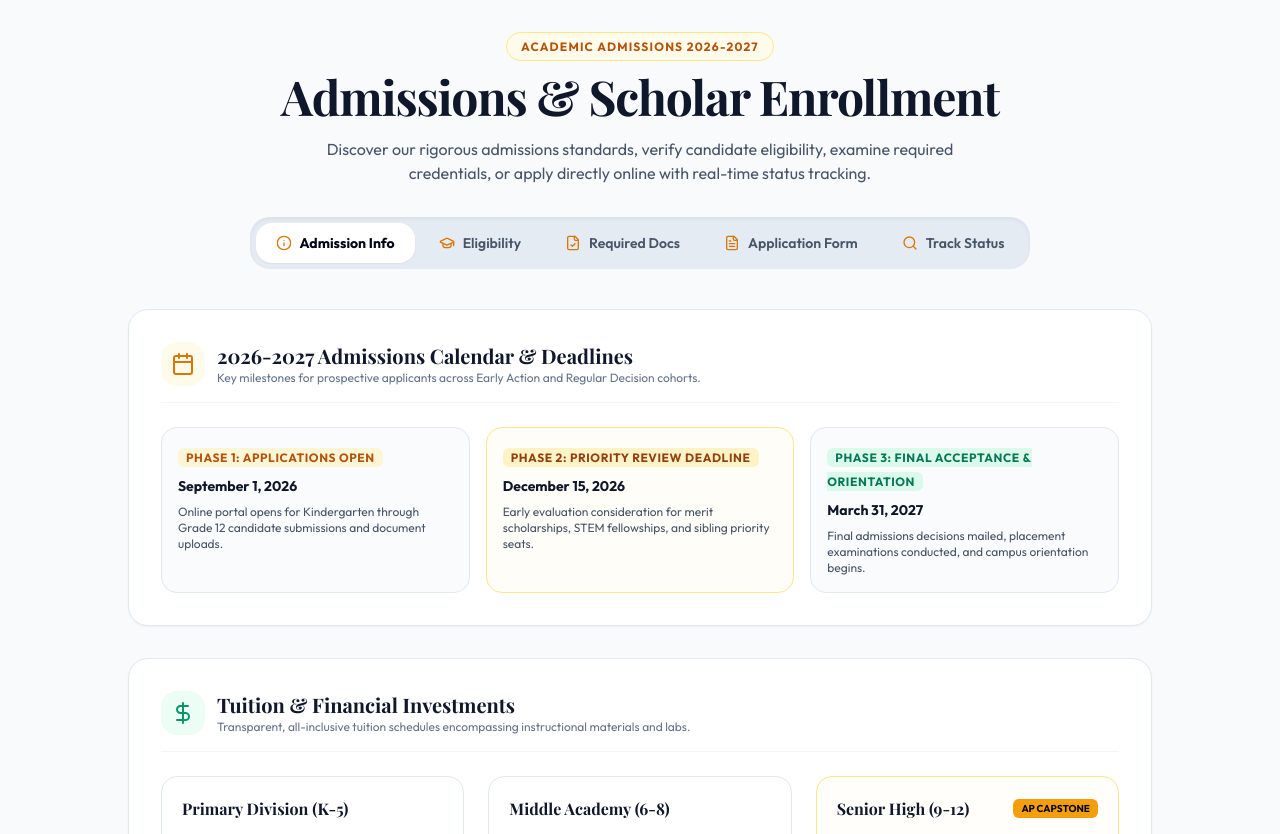
Test: Phase 14 — Complete Admissions Workflow Test Suite › 3. Public Admissions Portal — Workflow Tracking & Correction Handling › tracks application with CORRECTION_REQUESTED and allows submitting corrections
Click the button "Track Status" at (953, 243), box 882,223 -> 1024,263
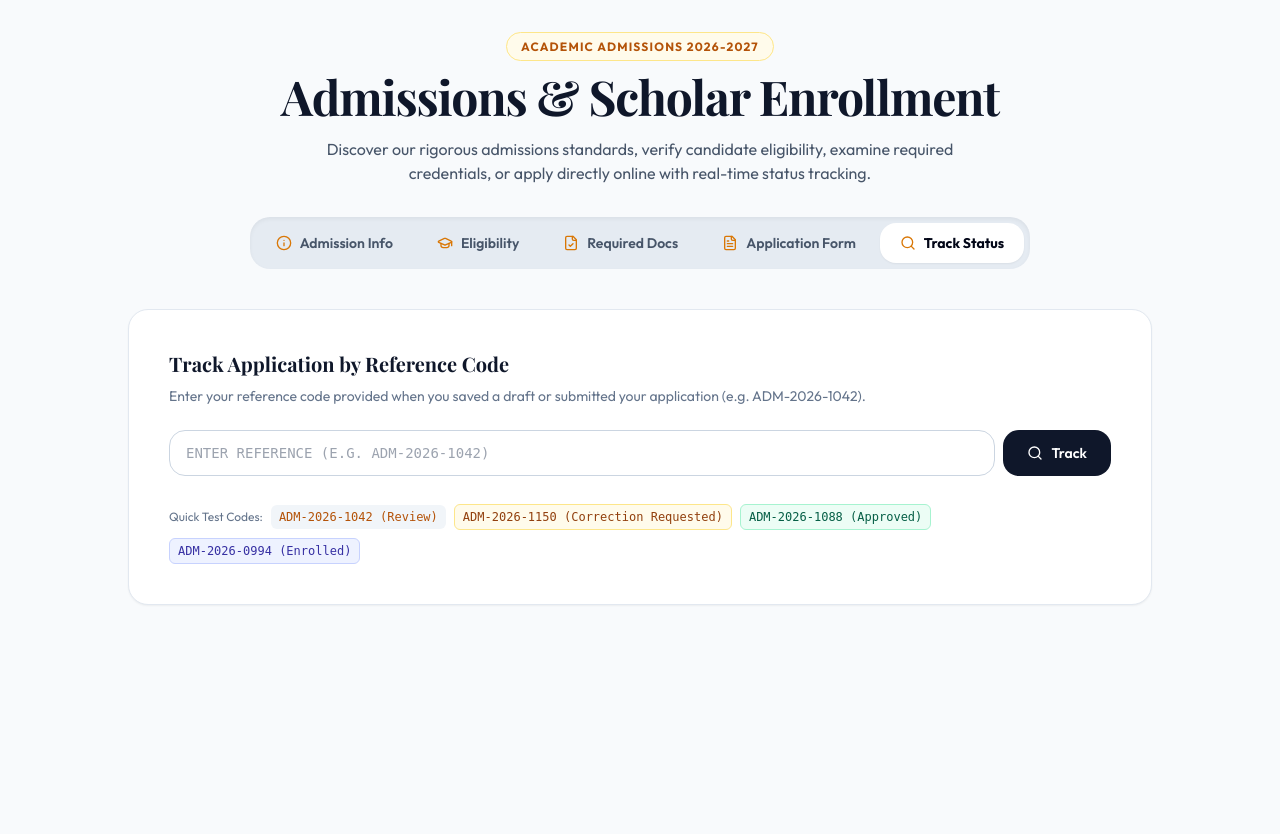
Type "ADM-2026-1150" into the field with placeholder "Enter Reference (e.g. ADM-2026-1042)" at (582, 453), box 169,430 -> 995,476
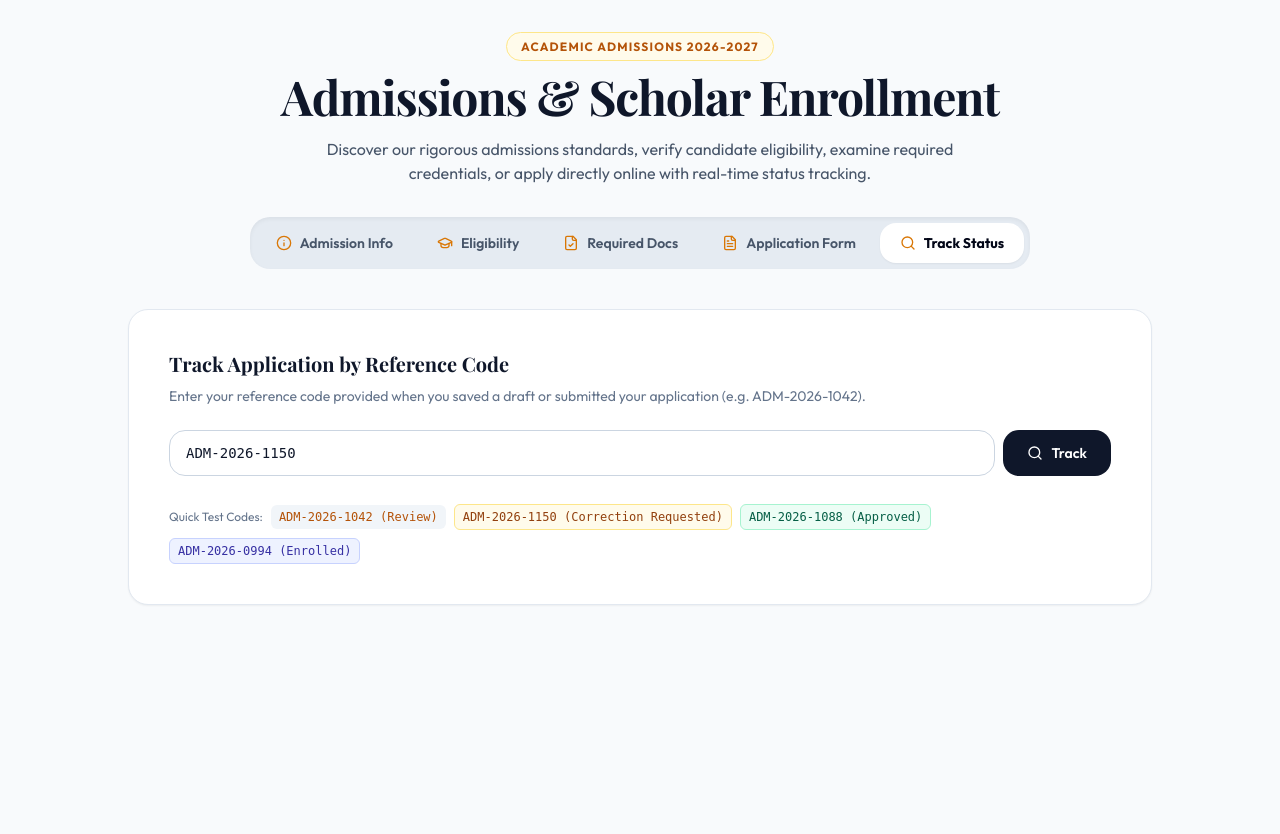
Click the button "Track" at (1057, 453), box 1003,430 -> 1111,476
(page scrolled)
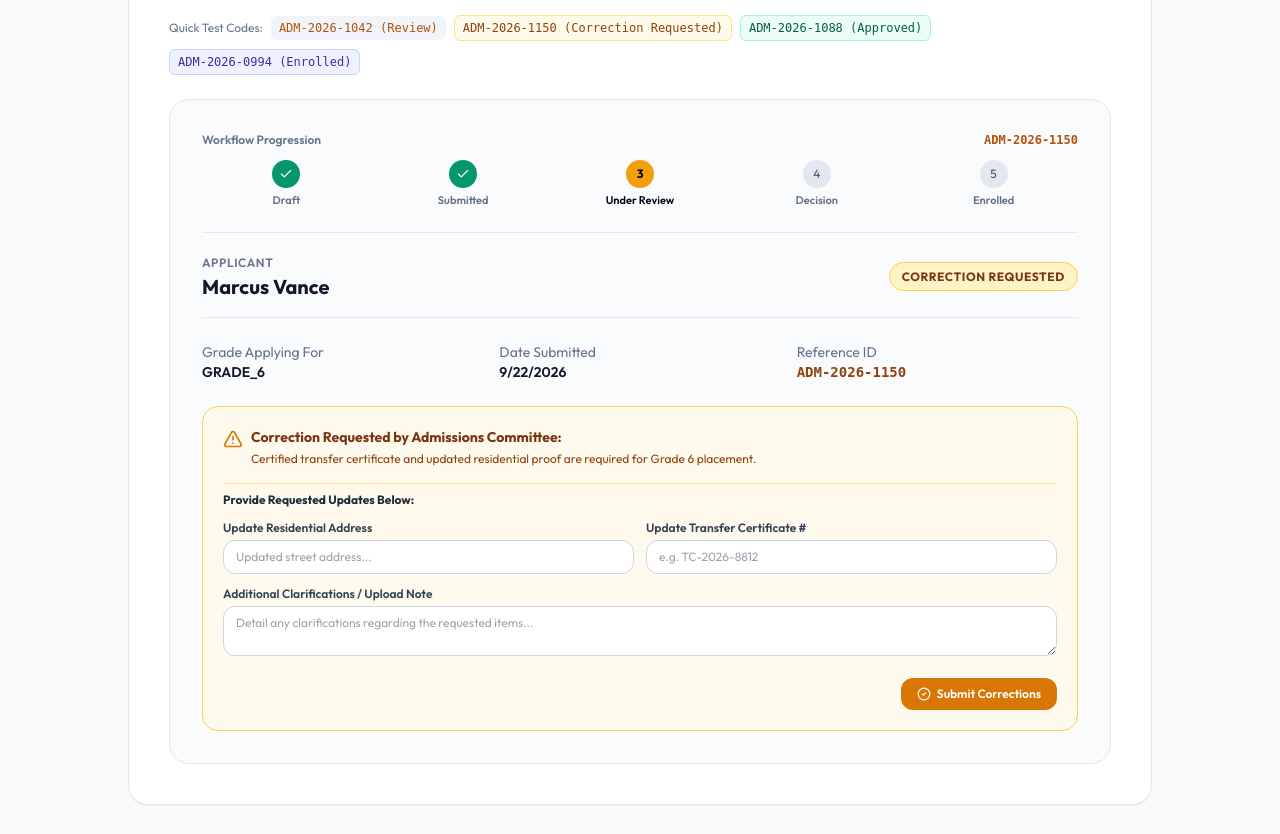
Expected: the text "Correction Requested by Admissions Committee:" is shown, 251,428 -> 562,446
Expected: the text "Certified transfer certificate and updated residential proof are required" is shown, 251,451 -> 756,466
// Fill in correction fields
Type "55 University Road, Cambridge, MA" into the field with placeholder "Updated street address..." at (428, 557), box 223,540 -> 634,574
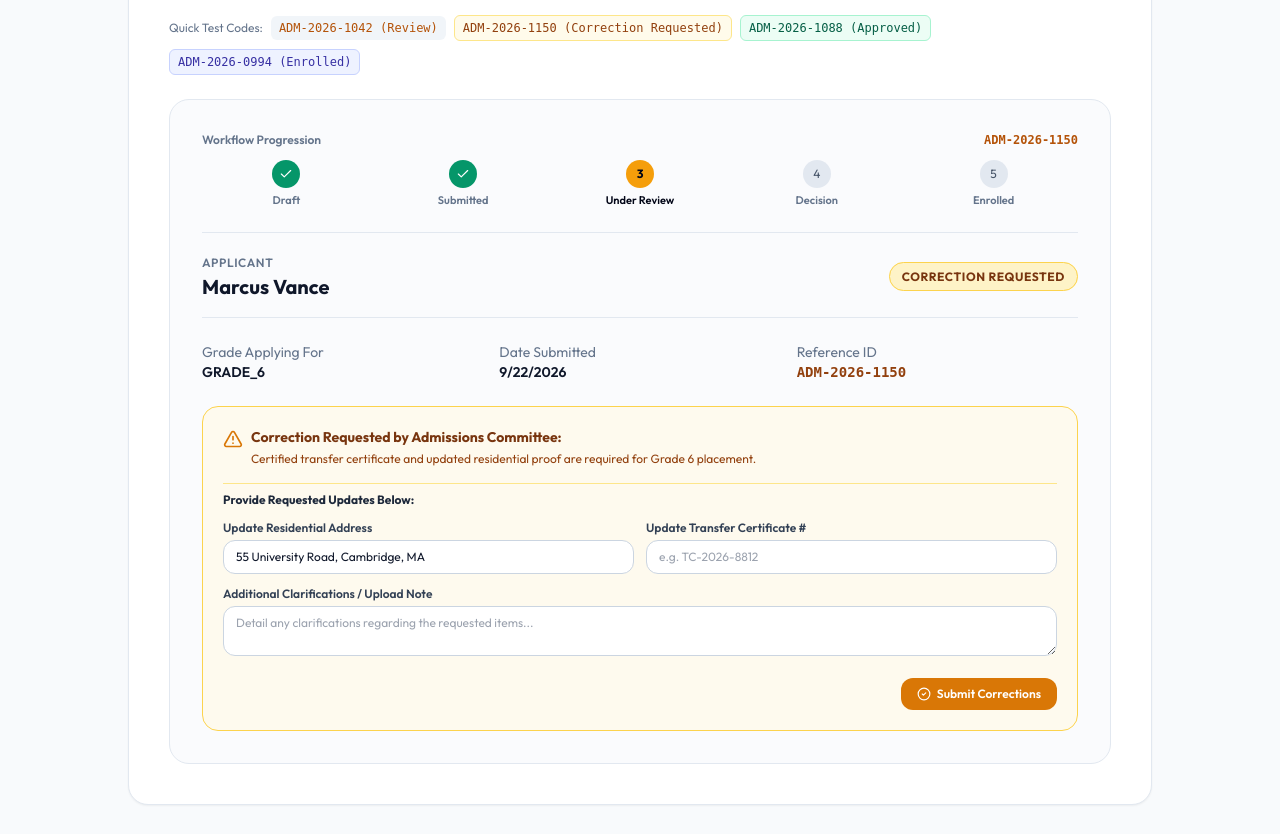
Type "TC-2026-9901" into the field with placeholder "e.g. TC-2026-8812" at (852, 557), box 646,540 -> 1057,574
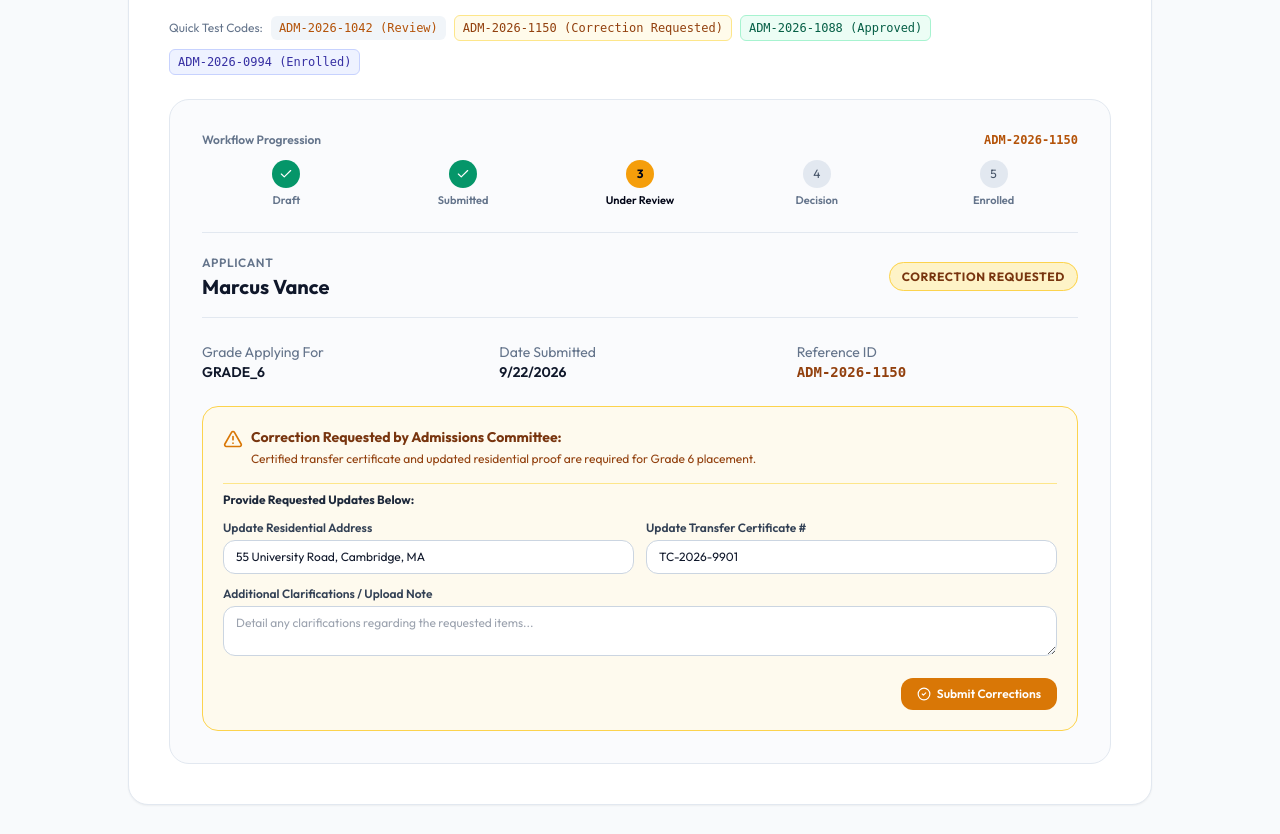
Click the button "Submit Corrections" at (979, 694), box 901,678 -> 1057,710
(page scrolled)
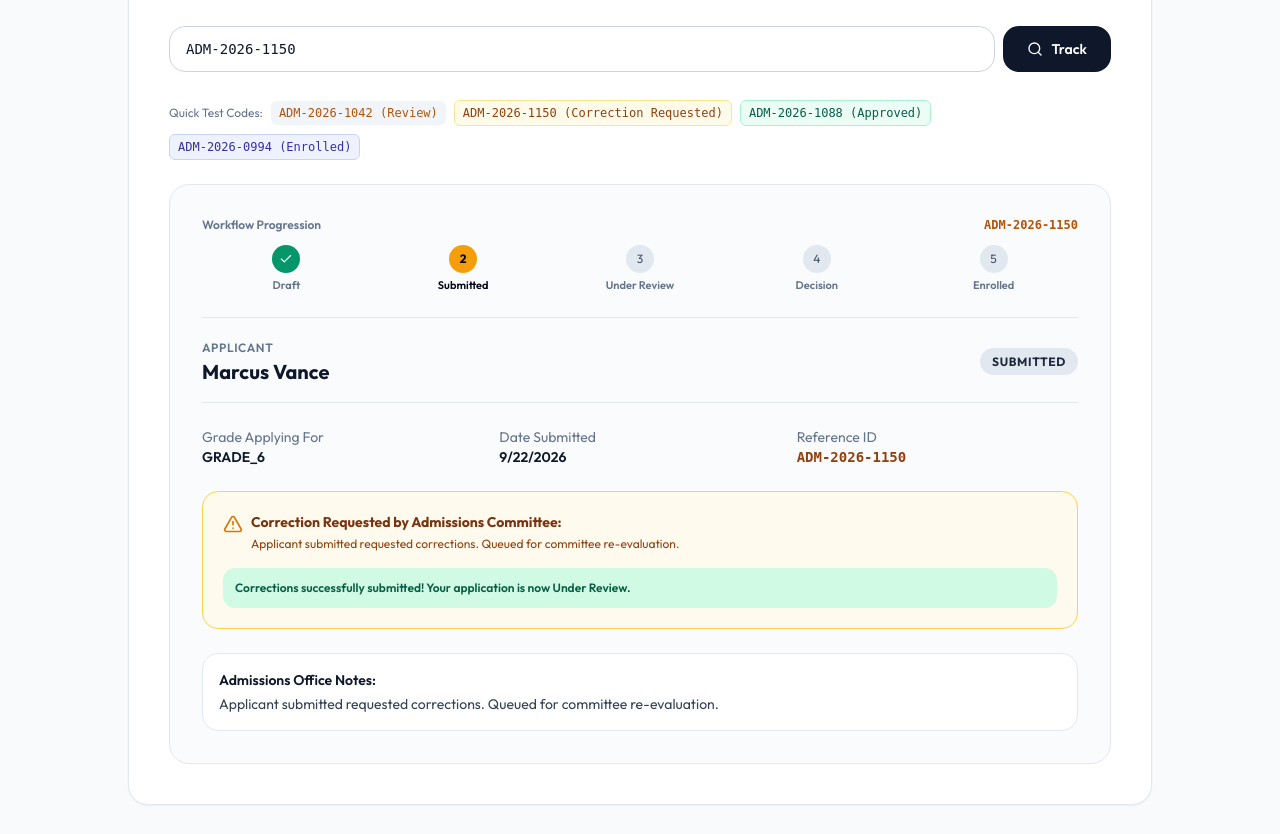
Expected: the text "Corrections successfully submitted" is shown, 235,580 -> 631,595
